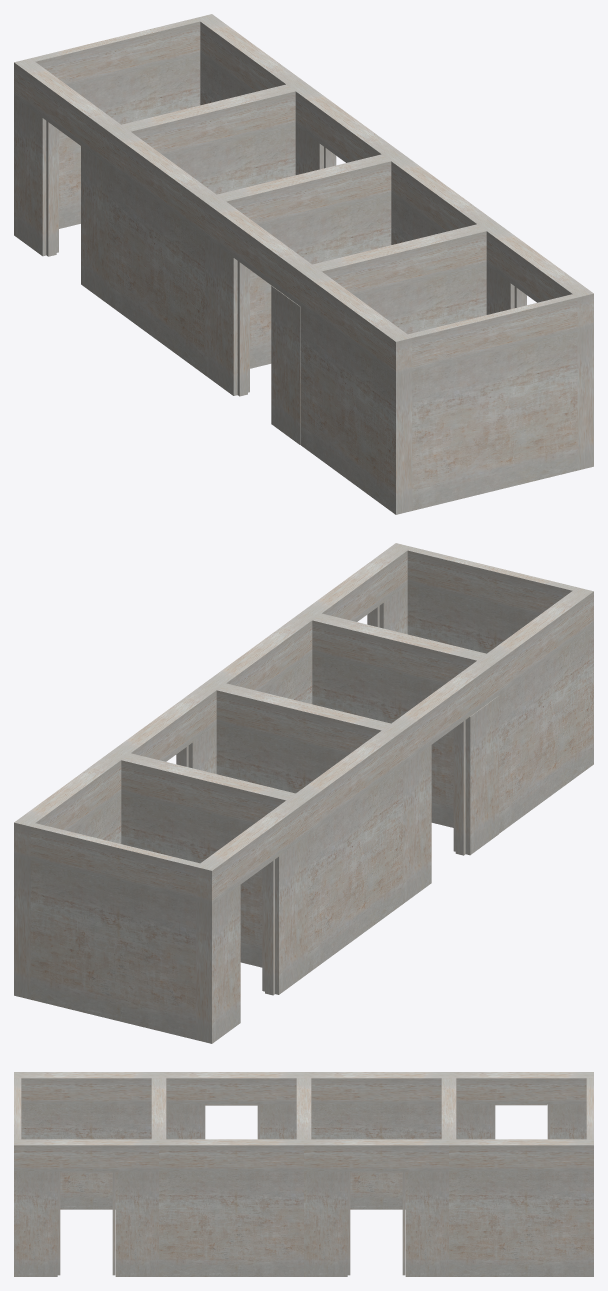
Rendered from InnerWalls2.fbx.
3 renders of one model, top to bottom at view 1: azimuth 30°, elevation 25°; view 2: azimuth 150°, elevation 25°; view 3: azimuth 270°, elevation 25°, orthographic. The views are drawn at different scales.
Visible parts, largest first — view 1: walls, top; view 2: walls, top; view 3: walls, top.
Boxes of the visible parts, x1,y1,x2,y2 form: walls: [14, 56, 593, 514]; top: [14, 14, 593, 376]; walls: [14, 585, 593, 1043]; top: [14, 543, 593, 905]; walls: [14, 1104, 593, 1276]; top: [14, 1072, 593, 1171].
Size of the model in its own units: 12 by 10 by 40.
